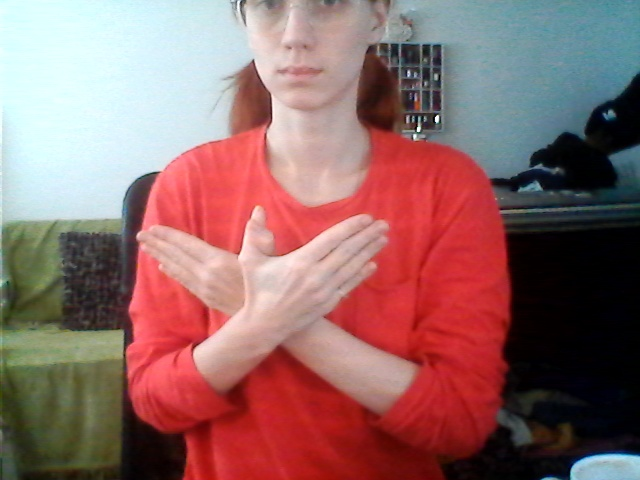lekar: (128, 203, 403, 336)
